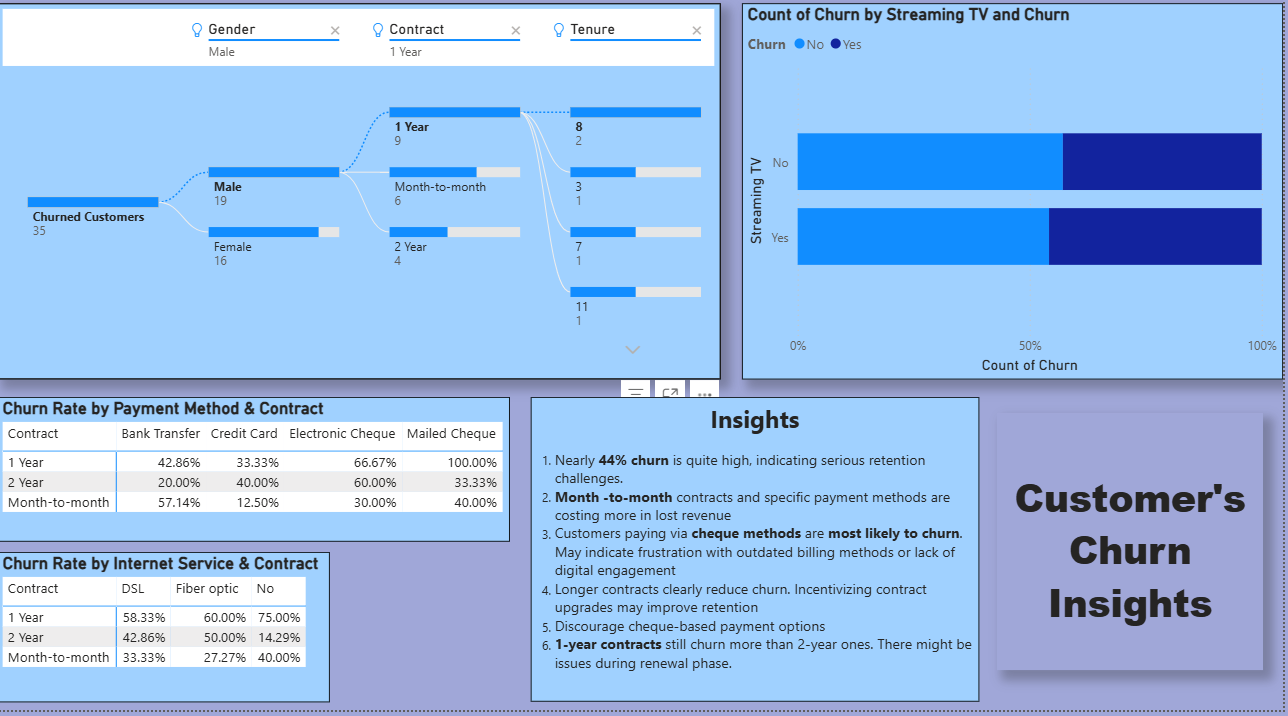

Layout of this report page (visuals, bound fields, positions):
{"tool":"powerbi","page":{"name":"Page 2","canvas":[1280,720],"ordinal":1},"visuals":[{"type":"decompositionTreeVisual","fields":{"Analyze":["Telco Customers Churn.Churned Customers"],"ExplainBy":["Telco Customers Churn.Gender","Telco Customers Churn.Contract","Telco Customers Churn.Tenure"]},"box":[0,16.2,720.3,374.4],"z":0},{"type":"hundredPercentStackedBarChart","fields":{"Y":["CountNonNull(Telco Customers Churn.Churn)"],"Category":["Telco Customers Churn.Tech Support","Telco Customers Churn.Paperless Billing","Telco Customers Churn.Internet Service","Telco Customers Churn.Payment Method","Telco Customers Churn.Streaming TV","Telco Customers Churn.Streaming Movies"],"Series":["Telco Customers Churn.Churn"]},"box":[741.4,16.2,538.6,374.4],"z":1000},{"type":"pivotTable","title":"Churn Rate by Payment Method  & Contract","fields":{"Values":["Telco Customers Churn.Churn Rate"],"Rows":["Telco Customers Churn.Contract"],"Columns":["Telco Customers Churn.Payment Method"]},"box":[0,408,510,144.3],"z":2000},{"type":"textbox","box":[531.2,408,446.6,303.5],"z":3000},{"type":"pivotTable","title":"Churn Rate by Internet Service & Contract","fields":{"Values":["Telco Customers Churn.Churn Rate"],"Columns":["Telco Customers Churn.Internet Service"],"Rows":["Telco Customers Churn.Contract"]},"box":[0,562.3,330.9,149.3],"z":4000},{"type":"textbox","box":[995.2,424.2,265,256.3],"z":5000}]}

Visuals, with their boxes in screenshot pixels (x1, y1, x2, y2), scaled from the page's 1280x720 canvas onto the 1288x716 screenshot:
decompositionTreeVisual - Telco Customers Churn.Churned Customers x Telco Customers Churn.Gender: pyautogui.locateOnScreen(0, 16, 725, 388)
hundredPercentStackedBarChart - CountNonNull(Telco Customers Churn.Churn) x Telco Customers Churn.Tech Support: pyautogui.locateOnScreen(746, 16, 1287, 388)
"Churn Rate by Payment Method  & Contract" pivotTable: pyautogui.locateOnScreen(0, 406, 513, 549)
textbox: pyautogui.locateOnScreen(535, 406, 984, 708)
"Churn Rate by Internet Service & Contract" pivotTable: pyautogui.locateOnScreen(0, 559, 333, 708)
textbox: pyautogui.locateOnScreen(1001, 422, 1268, 677)
